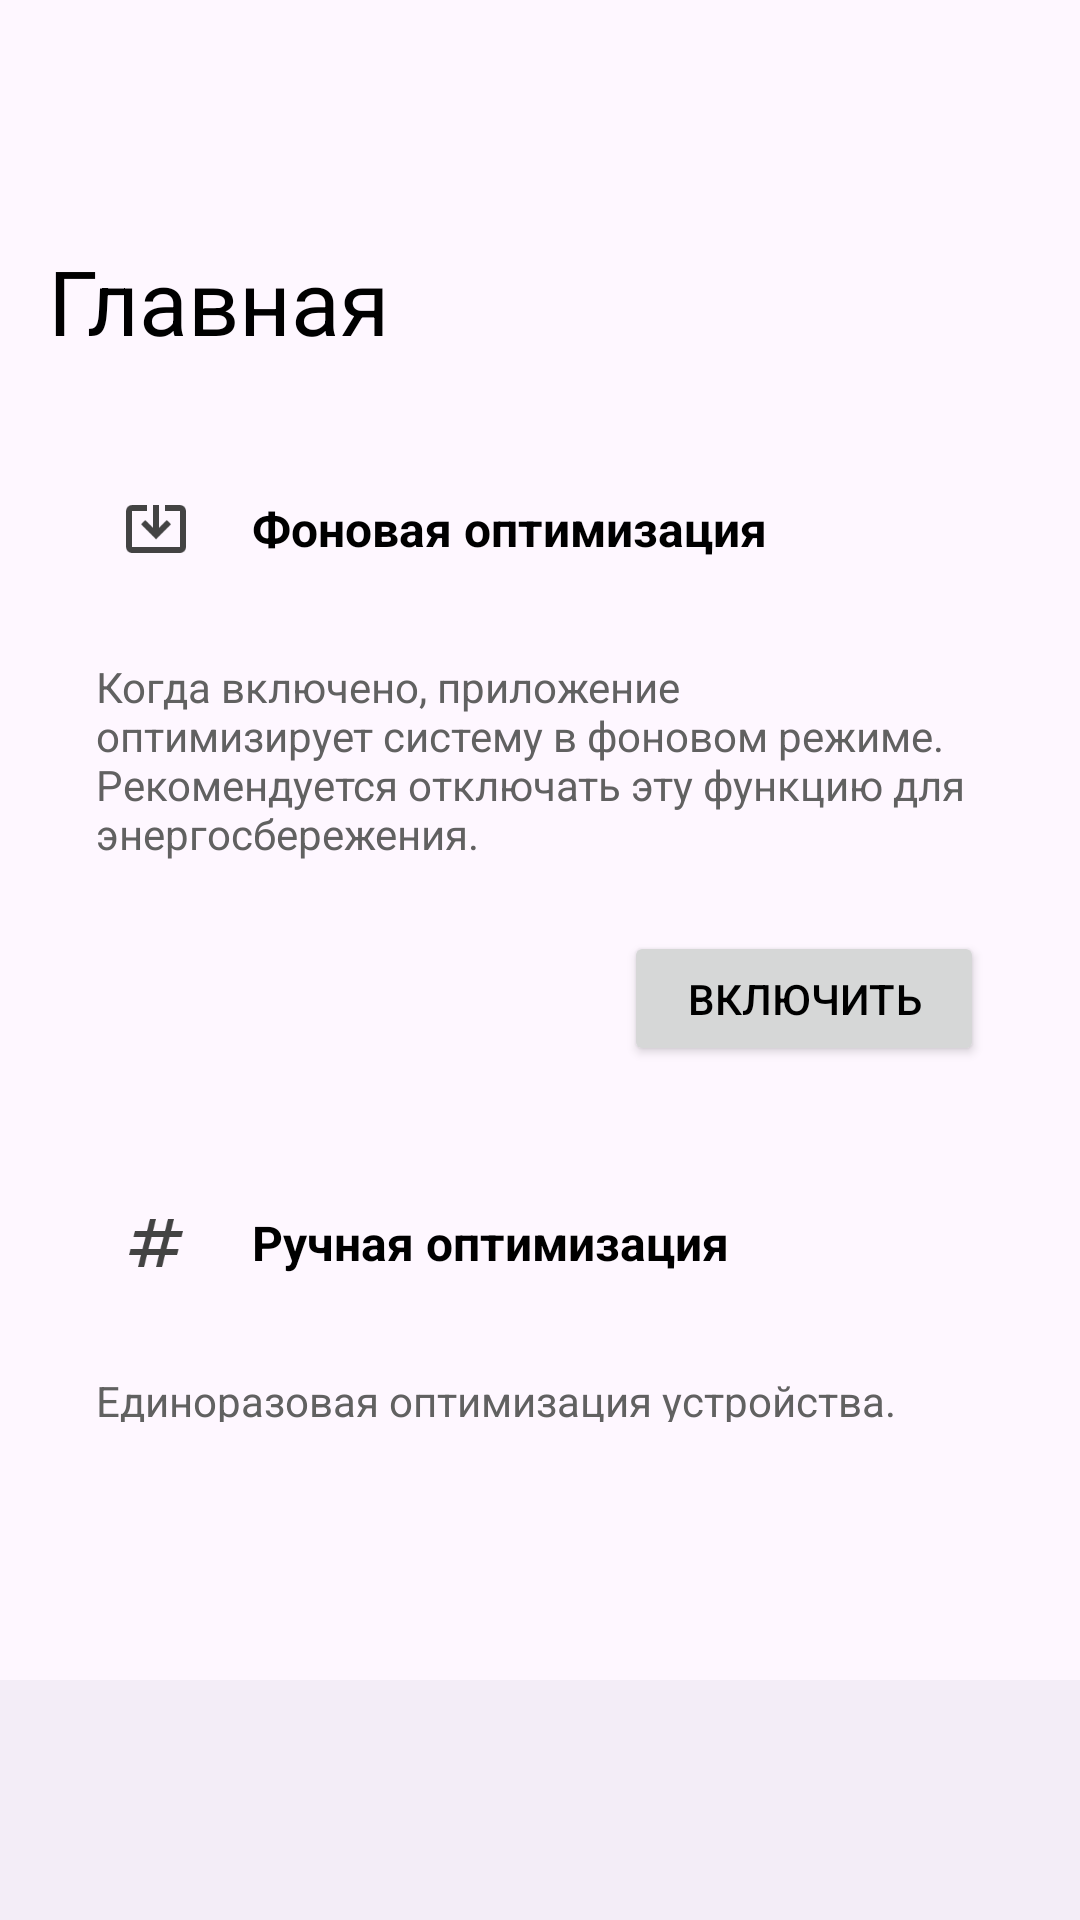

Screen size 1080*1920. Icon name, then its center in pixels as (x,y):
tag: (156,1243)
